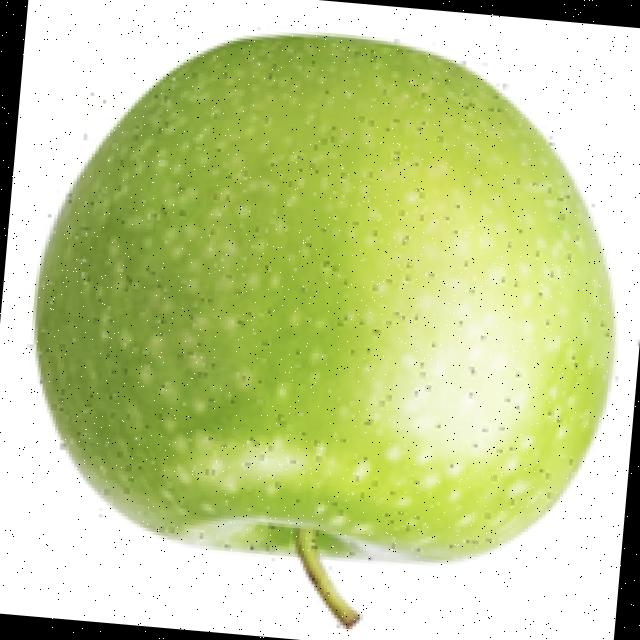apple: (25, 25, 621, 635)
